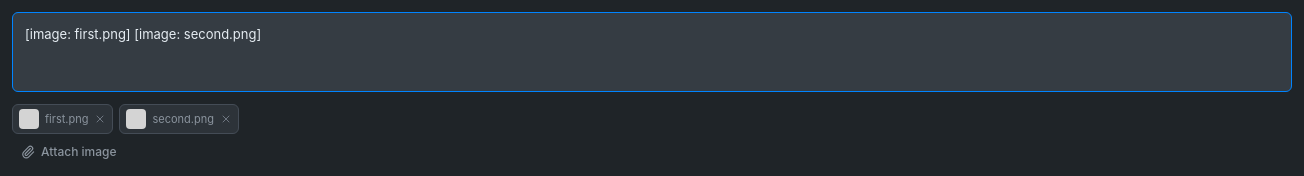
Scenario: TaskPromptComposer image markers › strips only the removed image's marker
Expected: the text box holds "[image: first.png] [image: second.png]", [12,12,1292,92]
Click the button with aria-label "Delete first.png" at coordinates (63, 119), box [12,104,113,134]
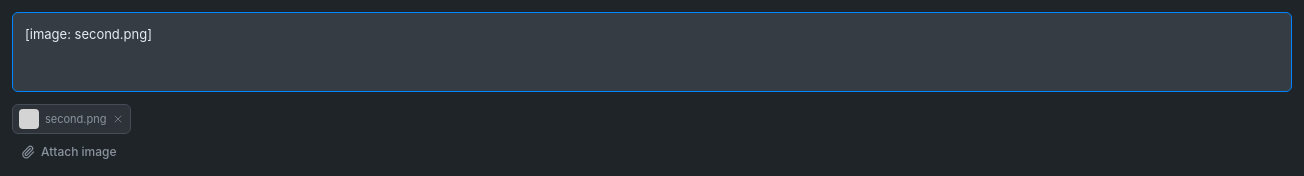
Expected: the text box holds "[image: second.png]", [12,12,1292,92]
